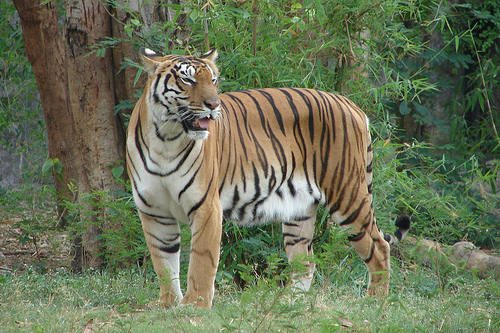Tigre: (109, 46, 399, 315)
